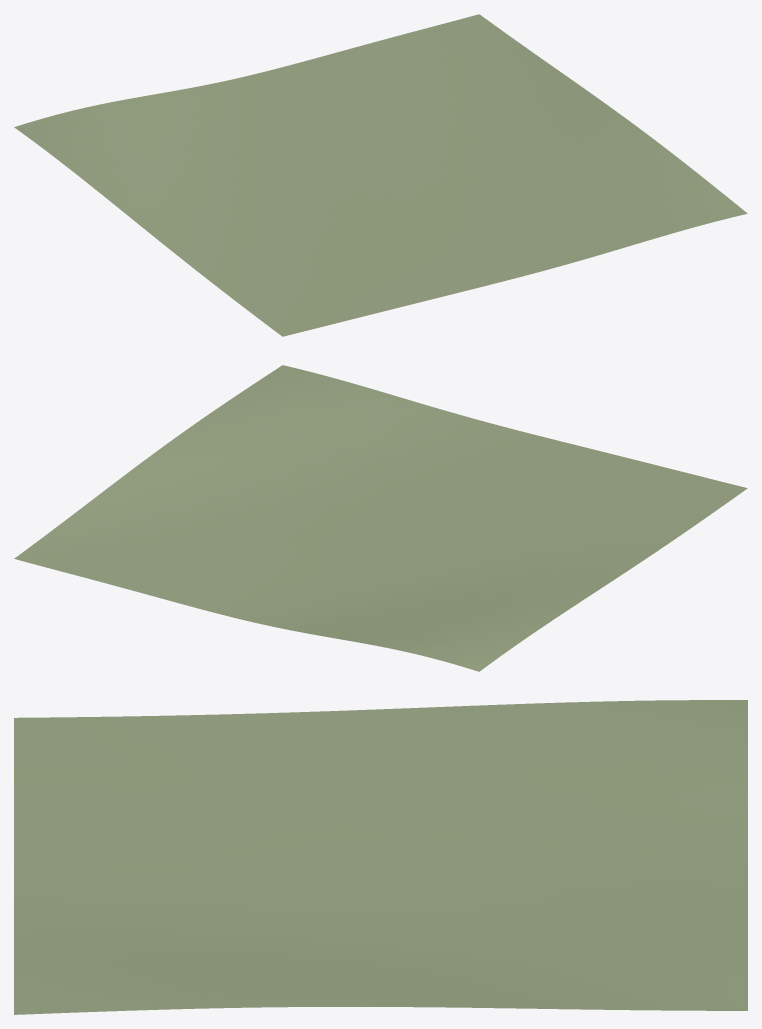
The model's file is desert-3-10.glb.
The picture shows the model from 3 angles, top to bottom: view 1: azimuth 30°, elevation 25°; view 2: azimuth 150°, elevation 25°; view 3: azimuth 270°, elevation 25°; orthographic projection. The views are drawn at different scales.
Visible parts, largest first — view 1: desert-3-10; view 2: desert-3-10; view 3: desert-3-10.
Boxes of the visible parts, x1,y1,x2,y2 form: desert-3-10: (14,14,747,336); desert-3-10: (14,365,747,671); desert-3-10: (14,700,747,1014).
Bounding box in the file's own units: 512 × 16.32 × 512.
